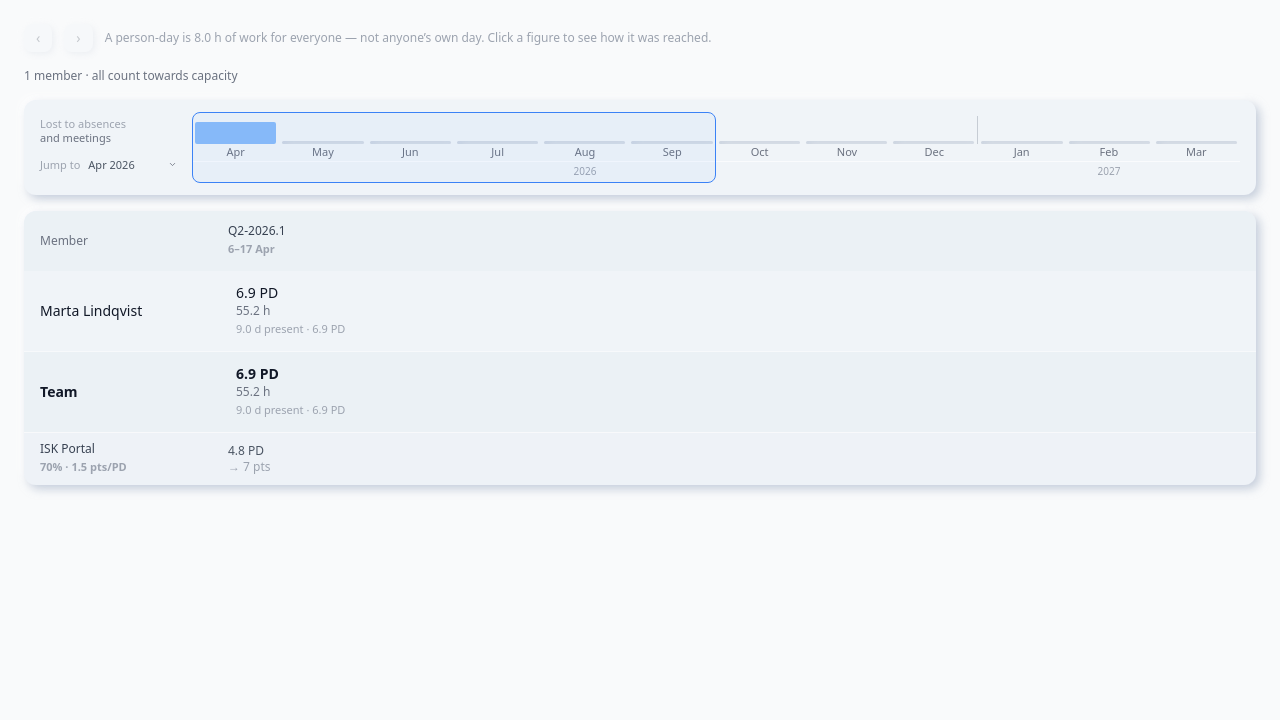
Test: TeamCapacityView › expands a cell into the chain that produced it
The width and height of the screenshot is (1280, 720).
Click the button with aria-label "Marta Lindqvist, Q2-2026.1: 6.9 person-days" at [282, 328], box [228,278,1244,342]
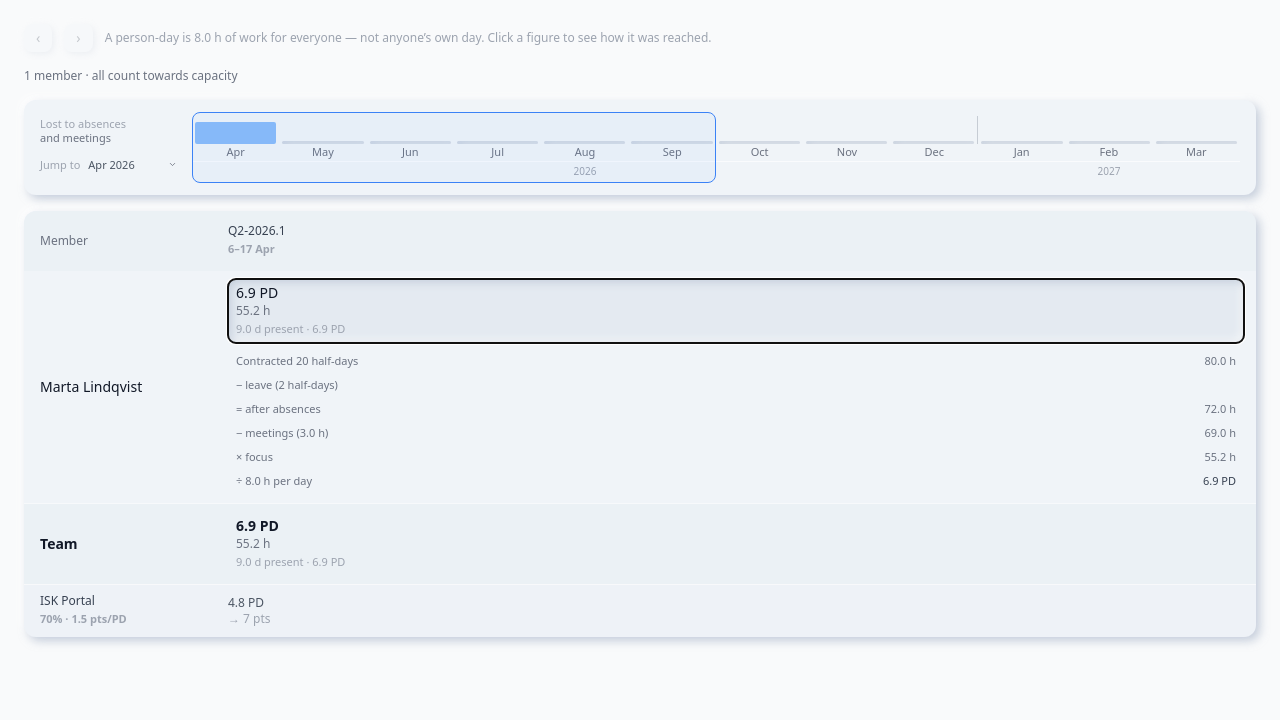
Result: the text "Contracted 20 half-days" is shown at [236,350,358,370]
Result: the text "− leave (2 half-days)" is shown at [236,374,338,394]
Result: the text "= after absences" is shown at [236,398,321,418]
